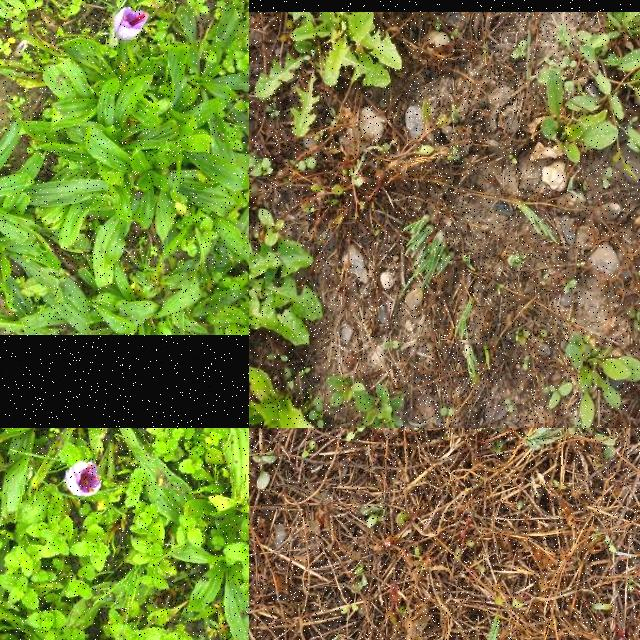flower: (112, 6, 150, 42), (66, 462, 102, 496)
